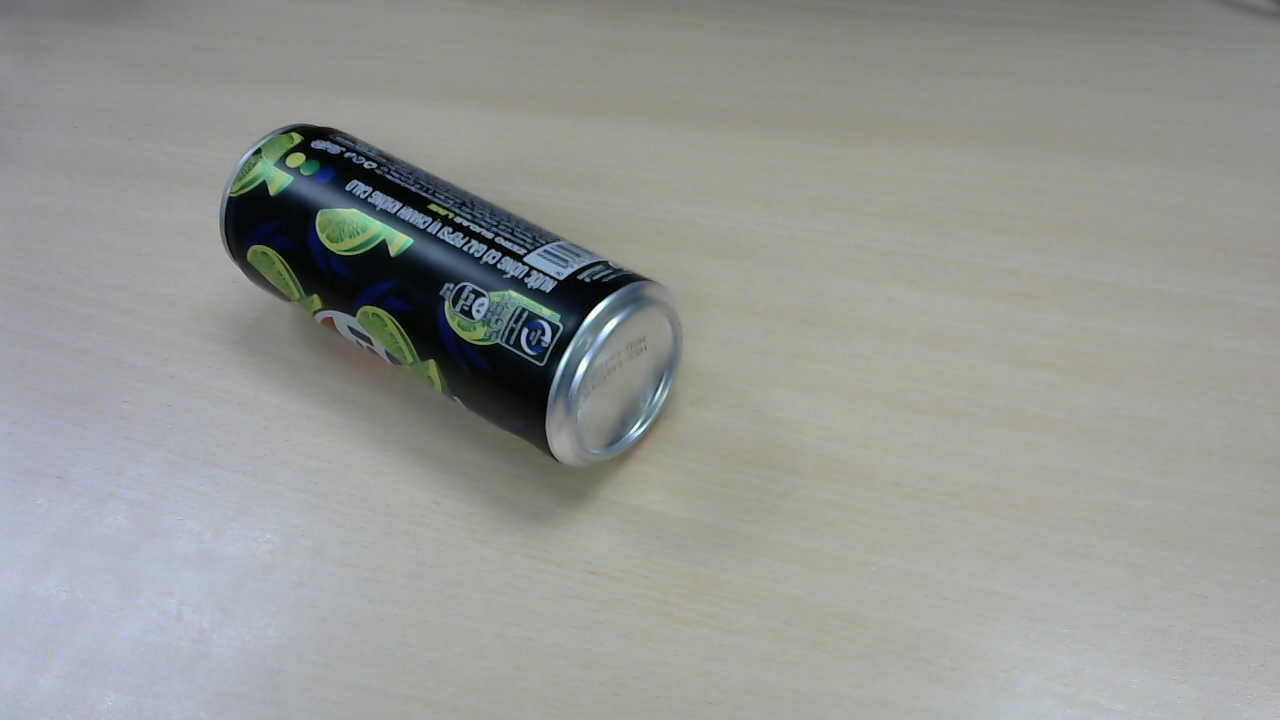Pepsi: (225, 129, 685, 476)
